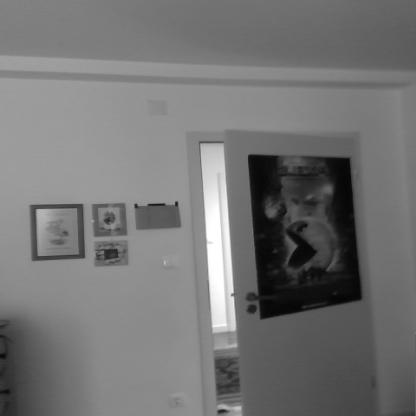semi: (180, 108, 384, 416)
